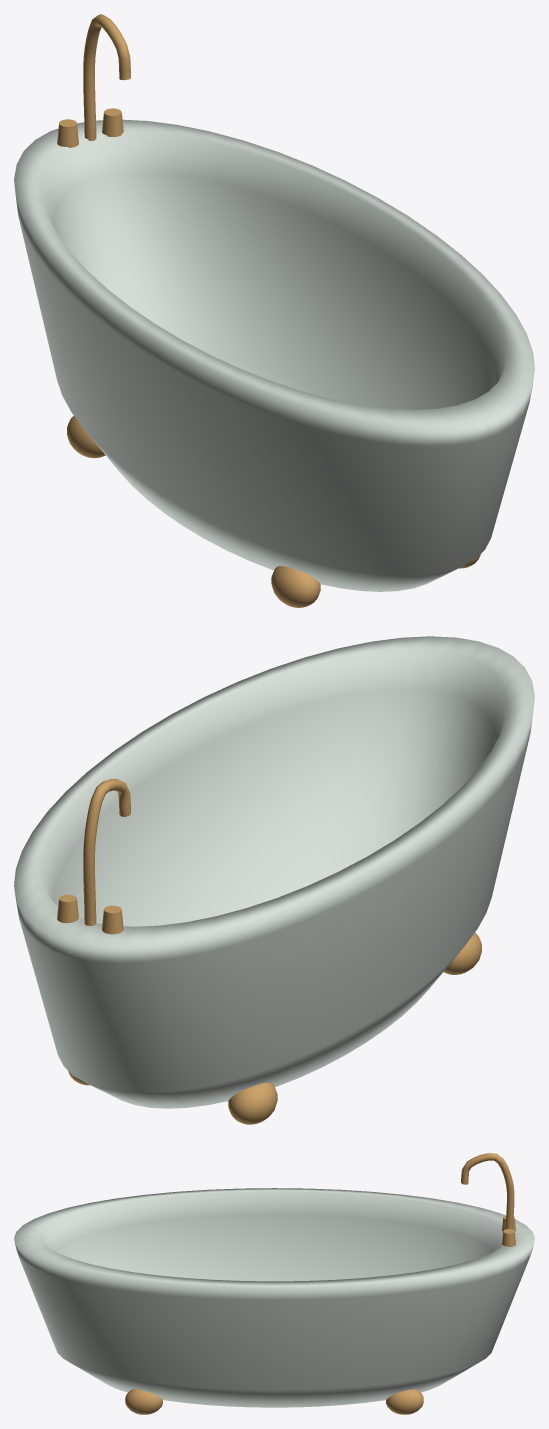
File: bath_tub_veranda-c7b686473727.glb
3 renders of one model, top to bottom at view 1: azimuth 30°, elevation 25°; view 2: azimuth 150°, elevation 25°; view 3: azimuth 270°, elevation 25°, orthographic. The views are drawn at different scales.
Parts seen in each view (by area): view 1: surface_porcelain, surface_brass; view 2: surface_porcelain, surface_brass; view 3: surface_porcelain, surface_brass.
Boxes of the visible parts, x1,y1,x2,y2 form: surface_porcelain: (14,119,534,591); surface_brass: (57,14,480,607); surface_porcelain: (14,636,534,1108); surface_brass: (57,779,481,1124); surface_porcelain: (14,1188,534,1407); surface_brass: (125,1153,515,1414).
Bounding box in the file's own units: 0.749 × 0.818 × 1.64.
